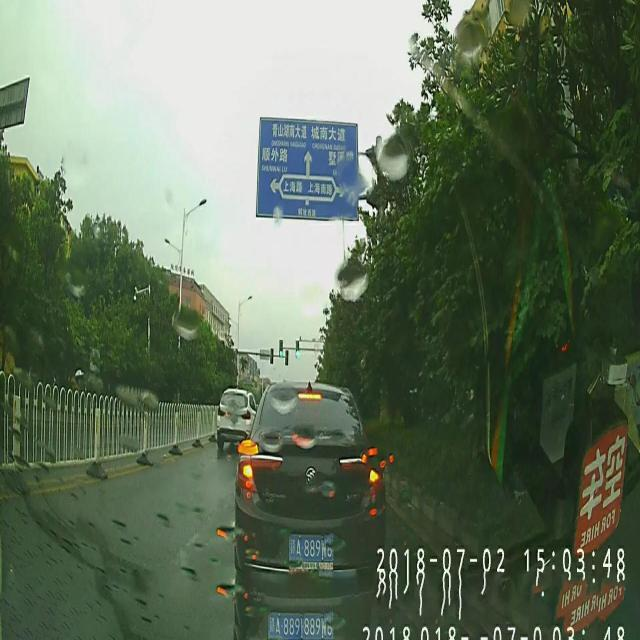car: (234, 382, 386, 562), (216, 386, 256, 451)
